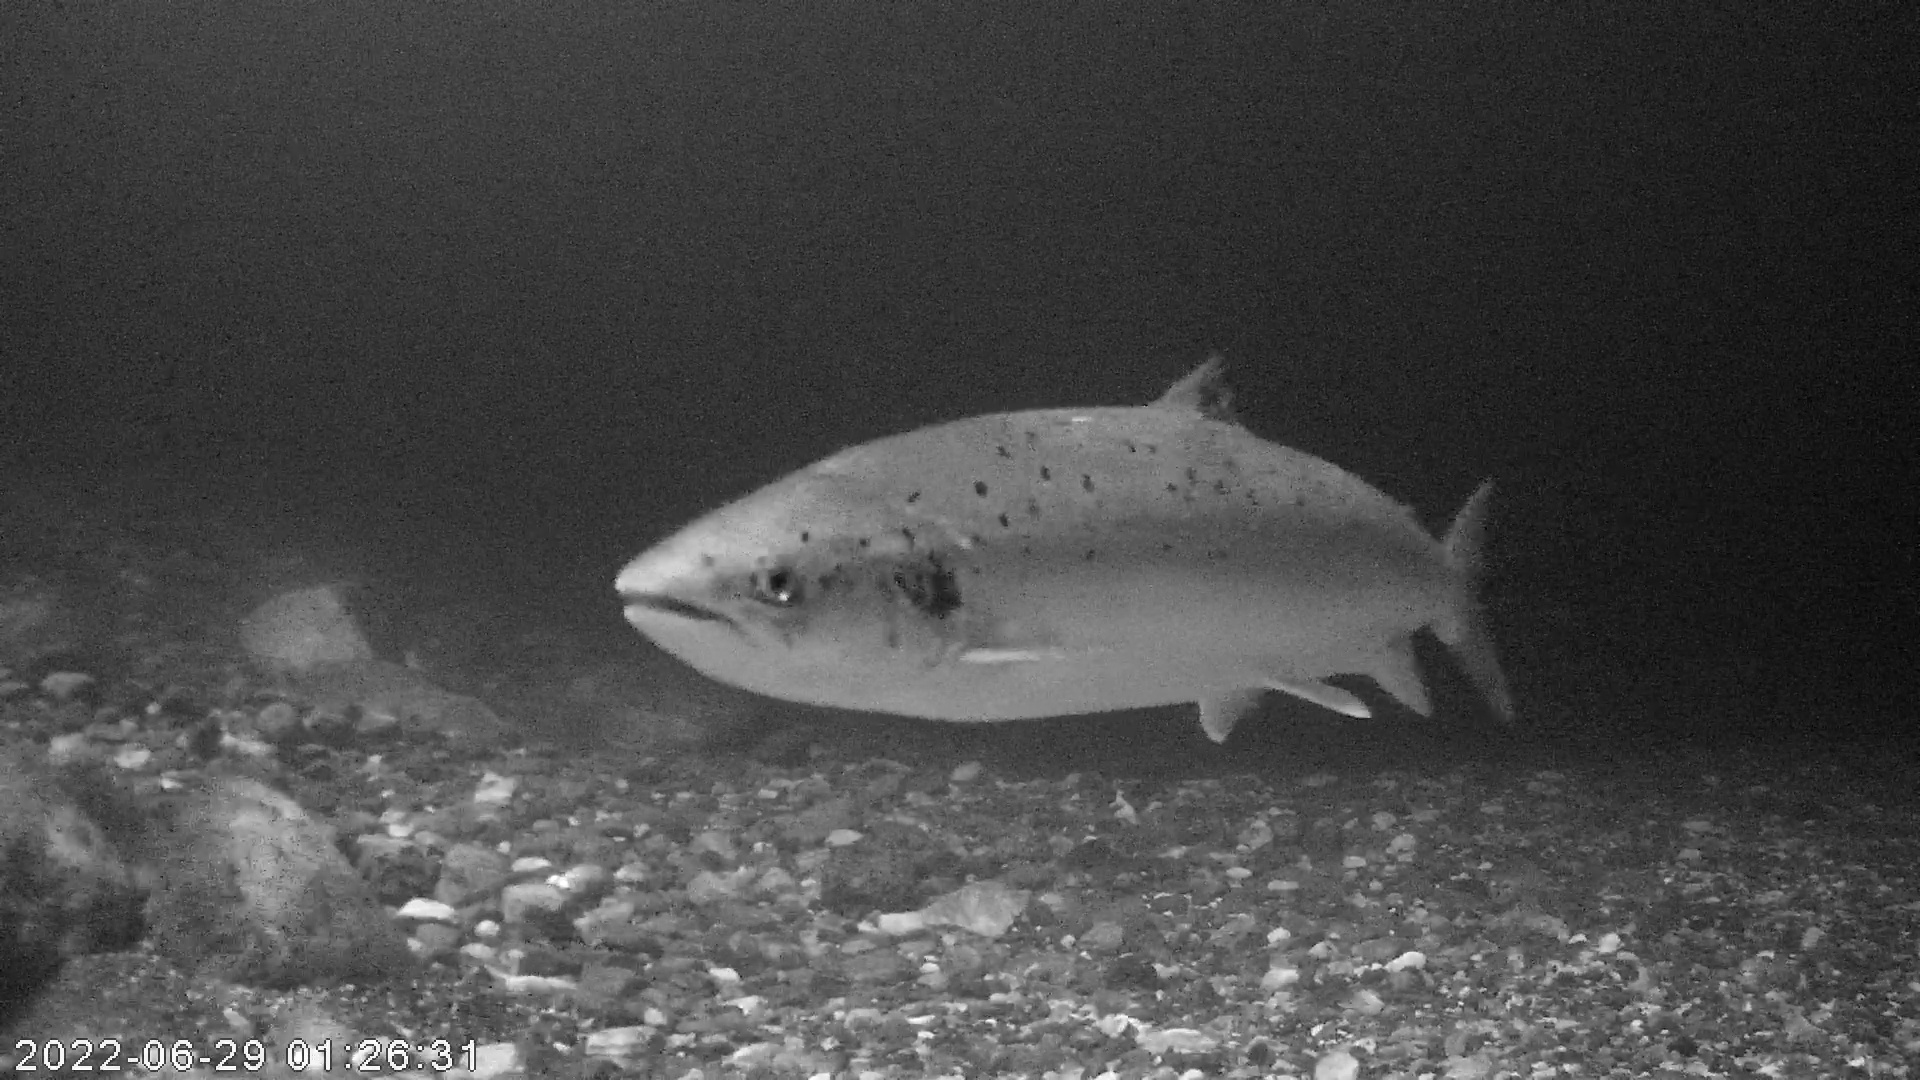salmon: (604, 342, 1522, 749)
